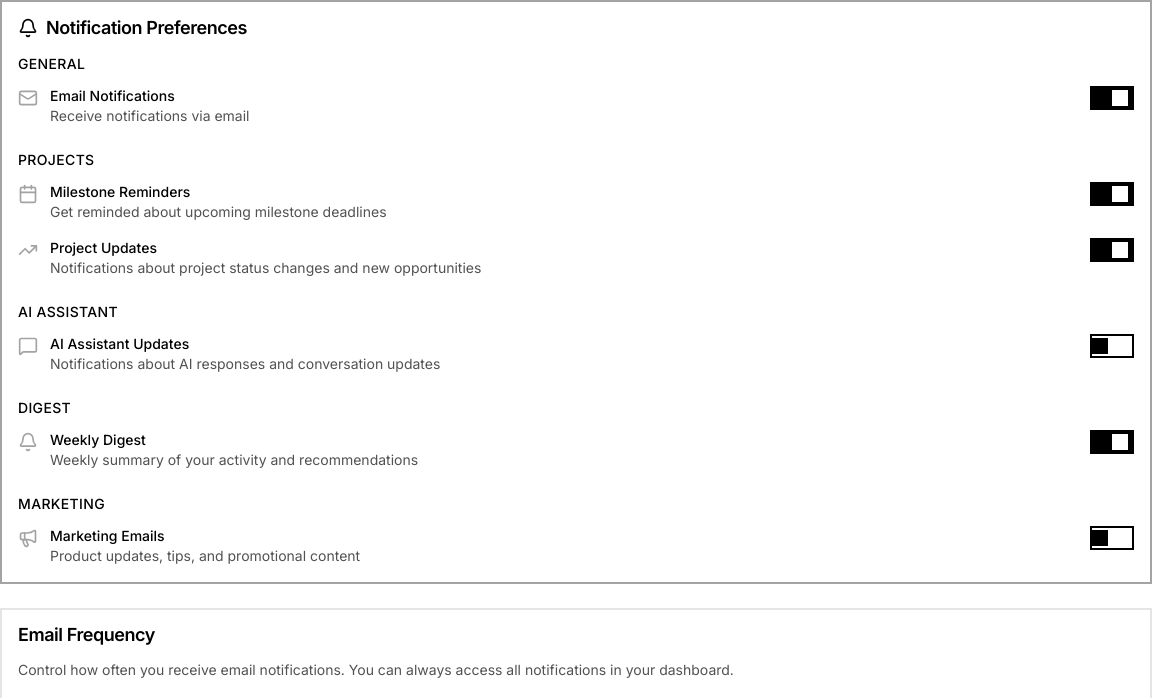
Scenario: NotificationSettings › resets preferences to original values
The width and height of the screenshot is (1152, 698).
Click the switch in the row of "Marketing Emails".
click(1112, 538)  # box [1090,526,1134,550]
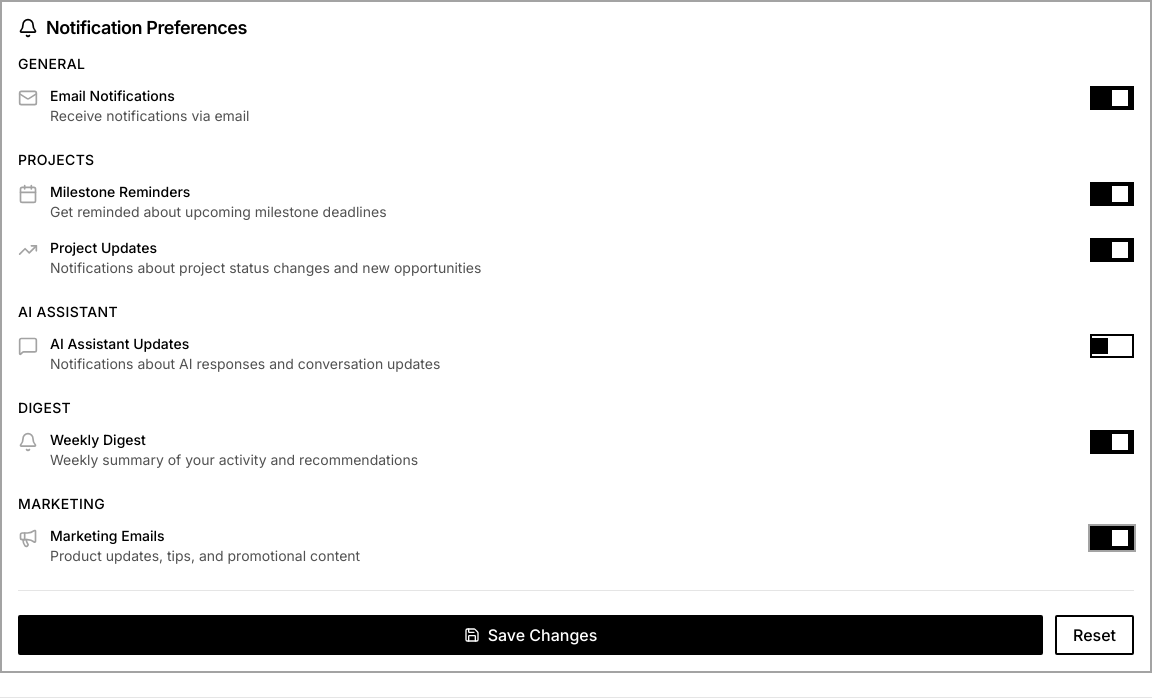
Expected: the button "Save Changes" is shown, [18,615,1043,655]
Expected: the button "Reset" is shown
Click reset
Click the button "Reset".
click(1094, 635)  # box [1055,615,1134,655]
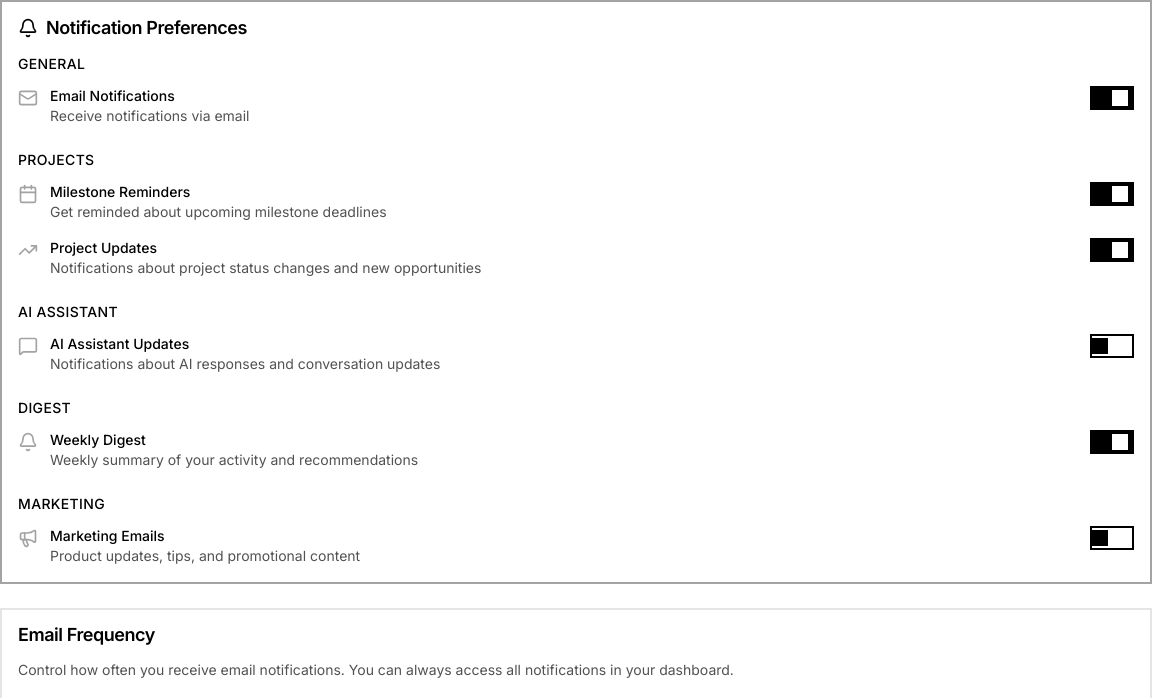
Expected: the button "Save Changes" is gone
